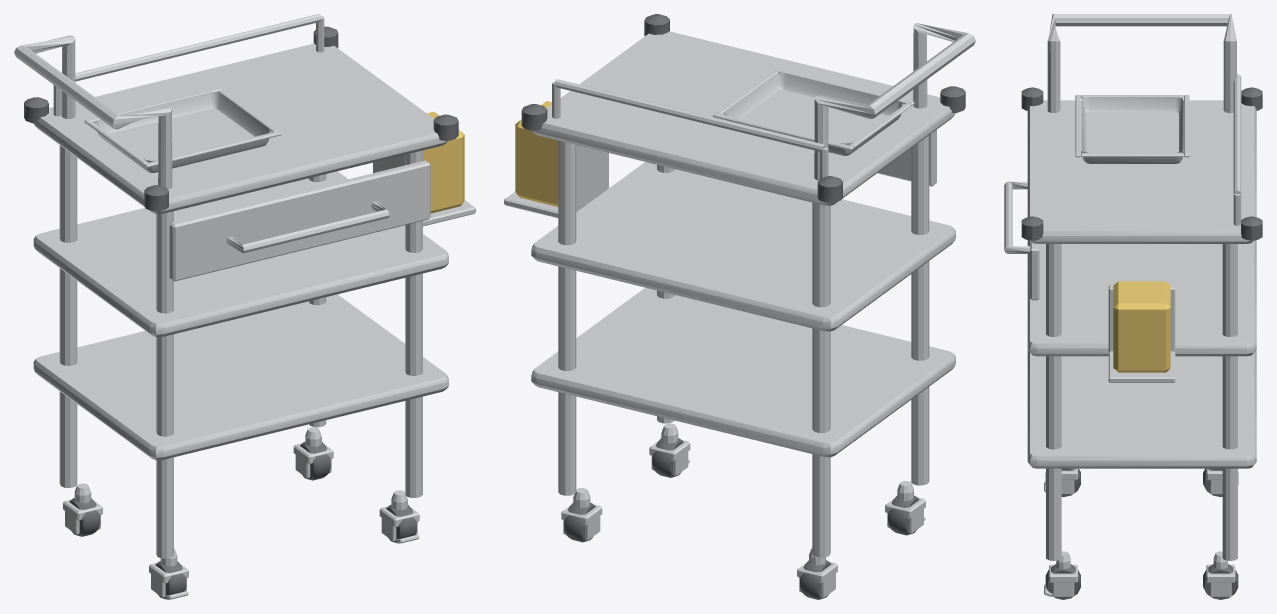
The model's file is clinic-and-veterinary-practice-treatment-trolley-b5ff1ad0__16751.glb.
3 views of the same model, side by side, from view 1: azimuth 30°, elevation 25°; view 2: azimuth 150°, elevation 25°; view 3: azimuth 270°, elevation 25° (orthographic). The views are drawn at different scales.
Parts seen in each view (by area): view 1: treatment-trolley, drawer-1; view 2: treatment-trolley, drawer-1; view 3: treatment-trolley, drawer-1.
Part boxes in pixels (x1,y1,x2,y2): treatment-trolley: [14, 14, 475, 599]; drawer-1: [169, 160, 430, 281]; treatment-trolley: [504, 14, 975, 599]; drawer-1: [877, 129, 936, 186]; treatment-trolley: [1021, 14, 1262, 599]; drawer-1: [1004, 181, 1039, 300].
Size of the model in its own units: 0.8734 by 1.05 by 0.5417.
